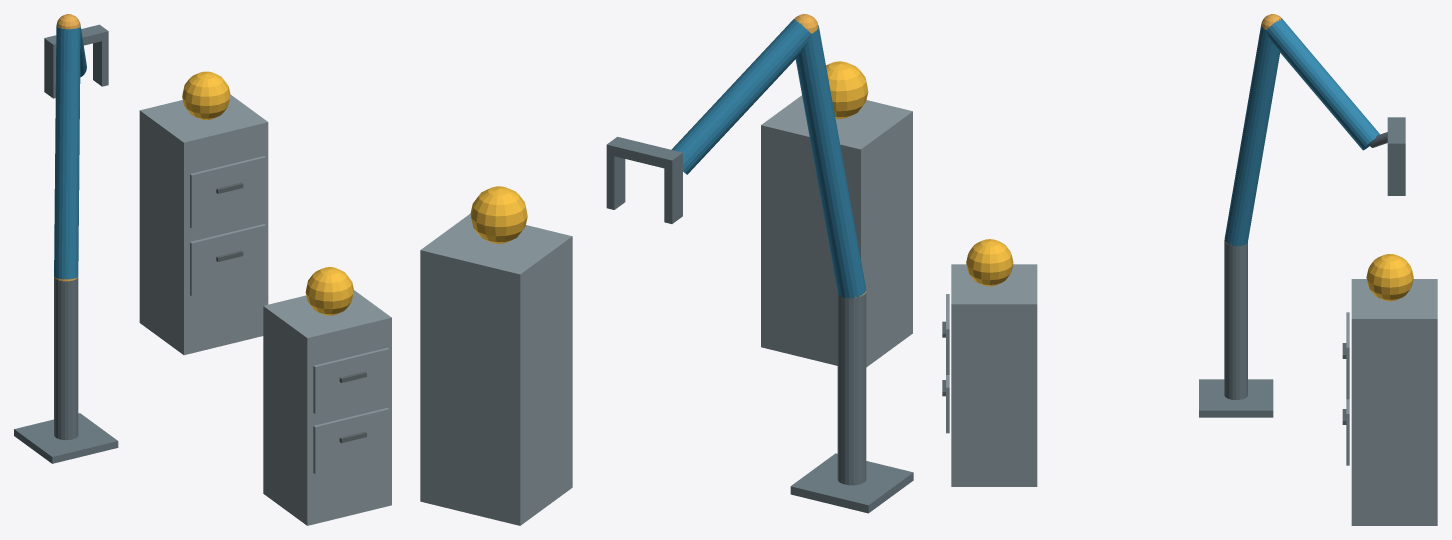
3 renders of one model, left to right at view 1: azimuth 30°, elevation 25°; view 2: azimuth 150°, elevation 25°; view 3: azimuth 270°, elevation 25°, orthographic. The views are drawn at different scales.
Parts seen in each view (by area): view 1: cabinet_2 body, cabinet_1 body, moving link 1, cabinet_2 drawer front, cabinet_2 drawer front.001, fixed post, cabinet_1 drawer front, cabinet_1 drawer front.001, pedestal, ball ball_2, released ball_1, gripper finger 1 (+2 smaller); view 2: cabinet_2 body, cabinet_1 body, moving link 1, fixed post, moving link 2, pedestal, ball ball_2, released ball_1, gripper bridge, gripper finger -1, gripper finger 1; view 3: cabinet_2 body, cabinet_1 body, moving link 1, fixed post, moving link 2, pedestal, released ball_1, ball ball_2, gripper finger 1, gripper bridge.
Boxes of the visible parts, left/top/right/bottom form: cabinet_2 body: left=139, top=94, right=268, bottom=355; cabinet_1 body: left=263, top=290, right=391, bottom=525; moving link 1: left=54, top=26, right=80, bottom=279; cabinet_2 drawer front: left=190, top=224, right=265, bottom=296; cabinet_2 drawer front.001: left=190, top=156, right=265, bottom=228; fixed post: left=54, top=277, right=78, bottom=440; cabinet_1 drawer front: left=313, top=408, right=389, bottom=473; cabinet_1 drawer front.001: left=313, top=347, right=389, bottom=413; pedestal: left=14, top=413, right=118, bottom=463; ball ball_2: left=182, top=71, right=230, bottom=119; released ball_1: left=305, top=267, right=353, bottom=315; gripper finger 1: left=93, top=39, right=108, bottom=86; cabinet_2 body: left=420, top=213, right=572, bottom=525; cabinet_1 body: left=761, top=95, right=912, bottom=367; moving link 1: left=795, top=25, right=865, bottom=298; fixed post: left=837, top=293, right=866, bottom=485; moving link 2: left=671, top=19, right=810, bottom=174; pedestal: left=790, top=453, right=913, bottom=513; ball ball_2: left=470, top=186, right=527, bottom=243; released ball_1: left=826, top=61, right=868, bottom=118; gripper bridge: left=606, top=136, right=682, bottom=170; gripper finger -1: left=664, top=162, right=682, bottom=223; gripper finger 1: left=606, top=154, right=625, bottom=209; cabinet_2 body: left=1351, top=279, right=1437, bottom=525; cabinet_1 body: left=951, top=264, right=1037, bottom=486; moving link 1: left=1224, top=24, right=1279, bottom=246; fixed post: left=1224, top=241, right=1247, bottom=399; moving link 2: left=1266, top=18, right=1379, bottom=150; pedestal: left=1199, top=379, right=1273, bottom=417; released ball_1: left=966, top=239, right=1013, bottom=286; ball ball_2: left=1366, top=254, right=1413, bottom=301; gripper finger 1: left=1387, top=151, right=1405, bottom=195; gripper bridge: left=1387, top=117, right=1405, bottom=151.
Size of the model in its own units: 1.12 by 1.48 by 1.67.
